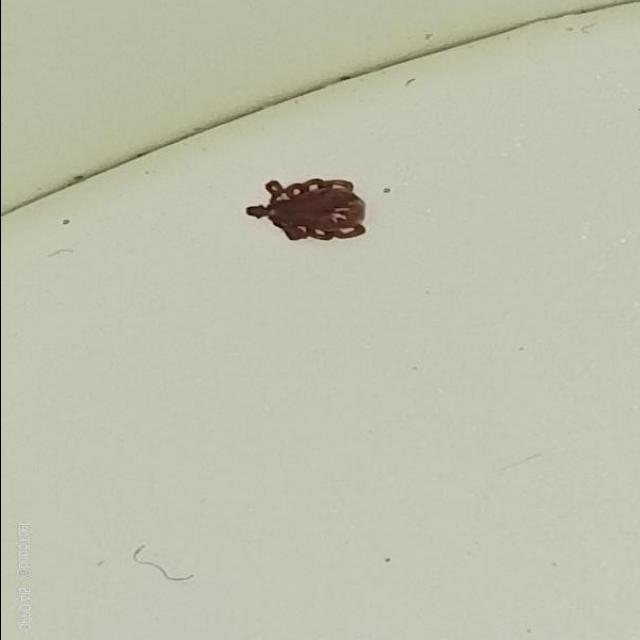Rhipicephalus Sanguineus-M: (243, 176, 365, 242)
